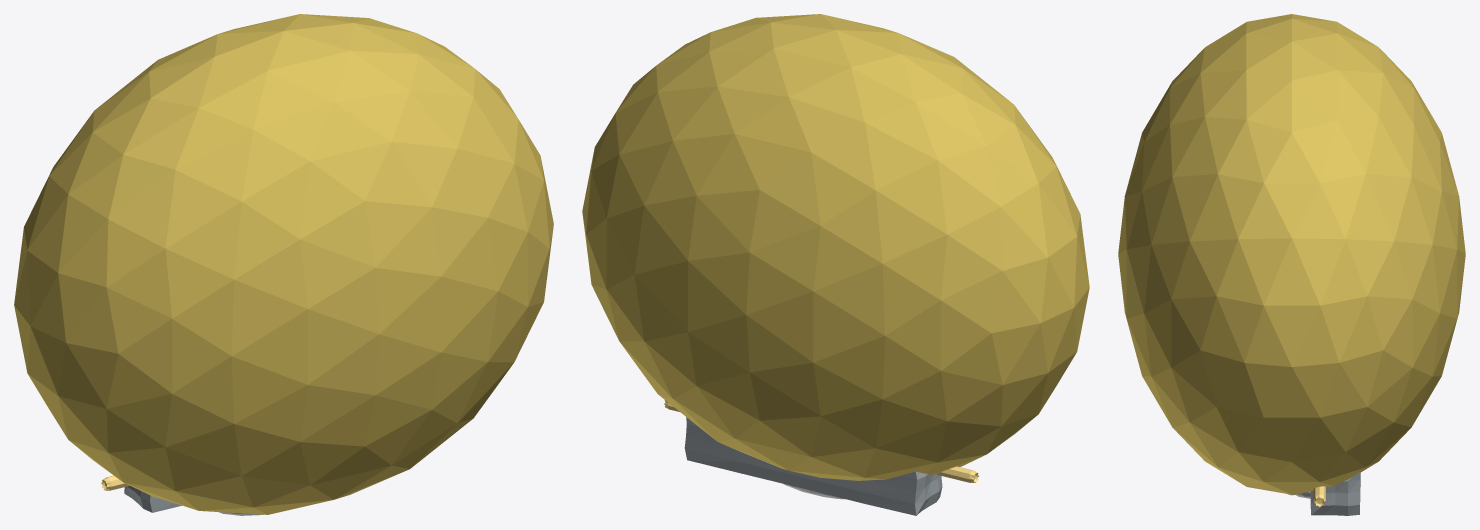
File: casco.glb
3 renders of one model, left to right at view 1: azimuth 30°, elevation 25°; view 2: azimuth 150°, elevation 25°; view 3: azimuth 270°, elevation 25°, orthographic. The views are drawn at different scales.
Parts seen in each view (by area): view 1: casco_00, casco_01; view 2: casco_00, casco_01; view 3: casco_00, casco_01.
Part boxes in pixels (left/top/right/bottom): casco_00: left=14, top=14, right=553, bottom=514; casco_01: left=124, top=486, right=181, bottom=512; casco_00: left=582, top=14, right=1089, bottom=480; casco_01: left=684, top=417, right=942, bottom=515; casco_00: left=1118, top=14, right=1465, bottom=494; casco_01: left=1310, top=472, right=1360, bottom=515.
Bounding box in the file's own units: 0.6714 × 0.6112 × 0.4372.
